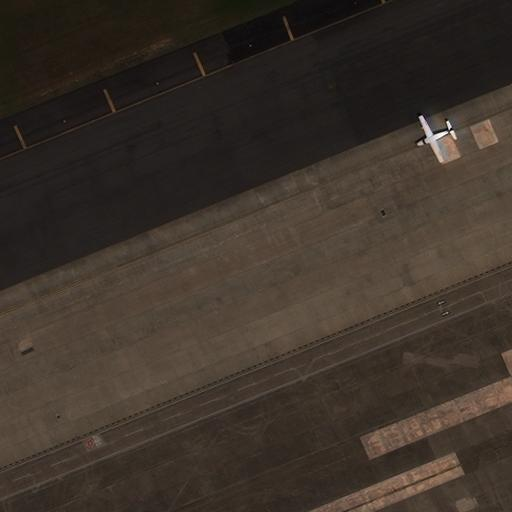Medium Civil Transport: (417, 115, 453, 162)
